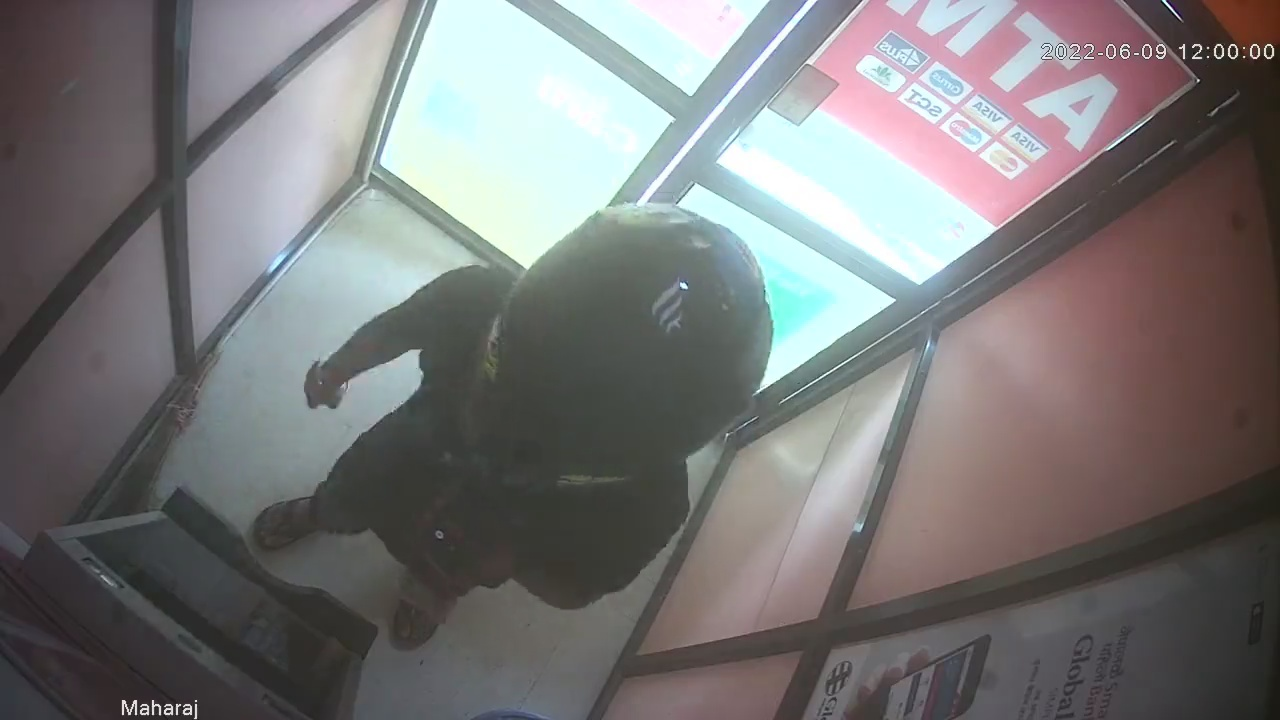helmet: (468, 202, 772, 470)
person: (251, 200, 774, 655)
